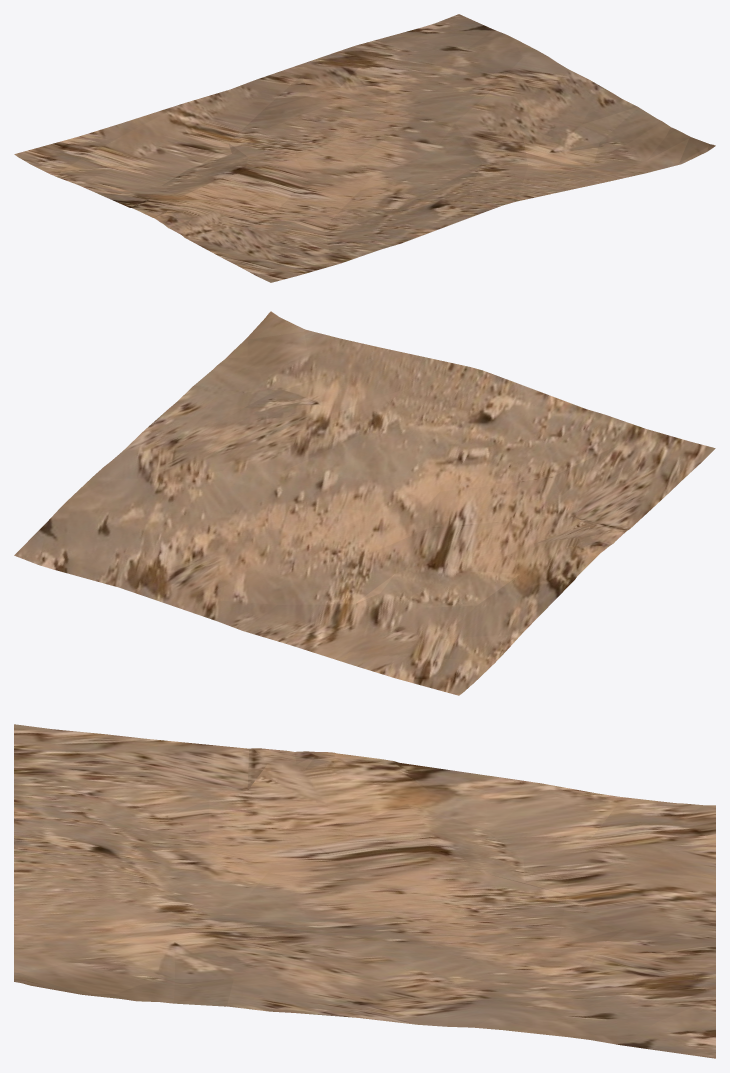
The picture shows the model from 3 angles, top to bottom: view 1: azimuth 30°, elevation 25°; view 2: azimuth 150°, elevation 25°; view 3: azimuth 270°, elevation 25°; orthographic projection. The views are drawn at different scales.
Size of the model in its own units: 2.09 by 0.3946 by 2.09.
Materials: 2 (2 with a texture image).
